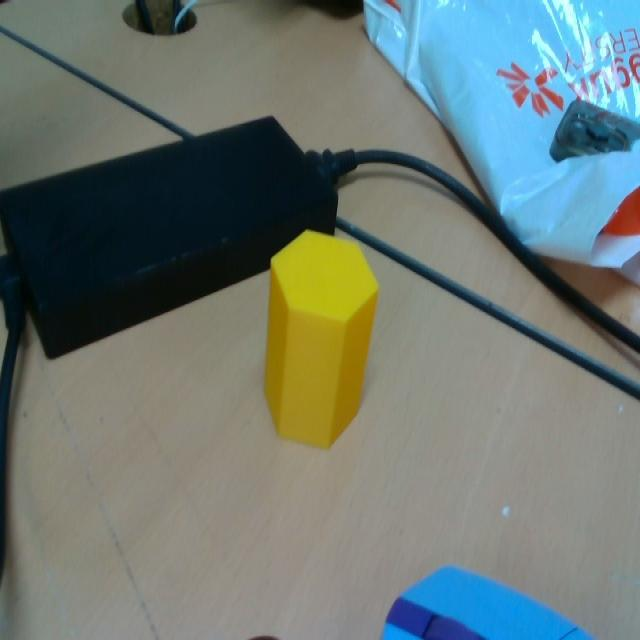hexagon: (264, 231, 377, 447)
